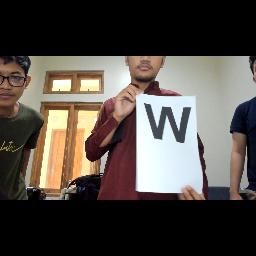w: (137, 96, 197, 150)
